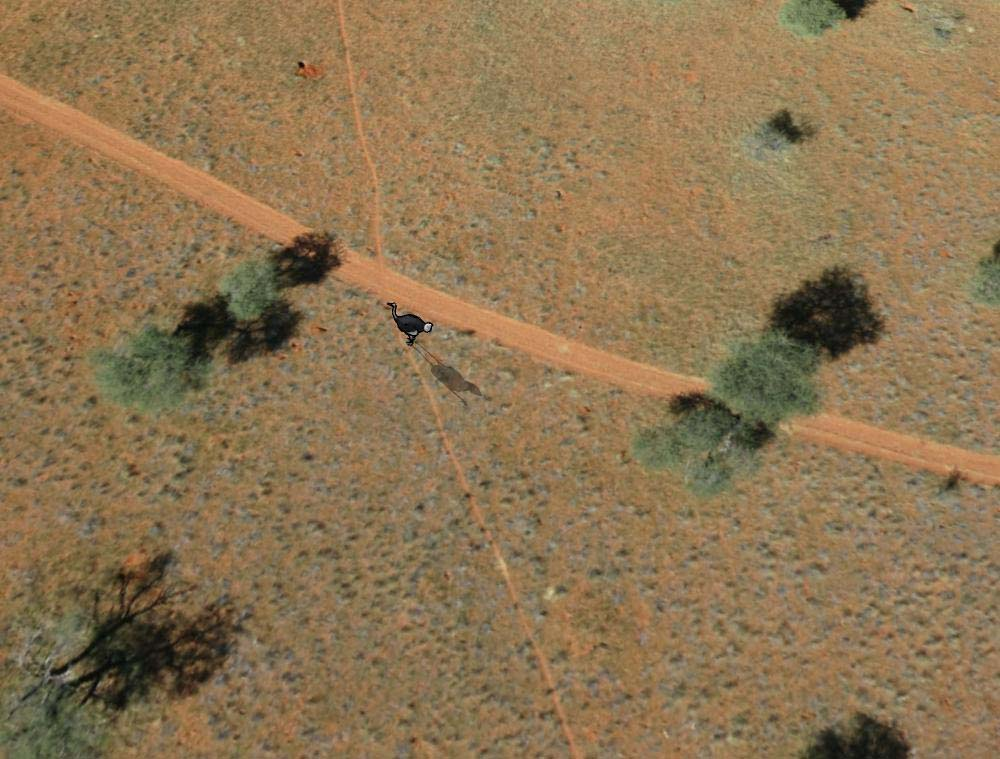springbok: (385, 294, 434, 346)
